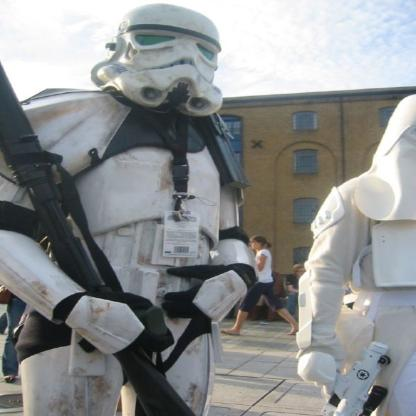Helmet: (88, 4, 226, 116)
